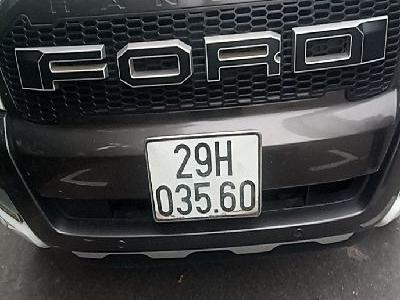lisence: (144, 131, 270, 223)
